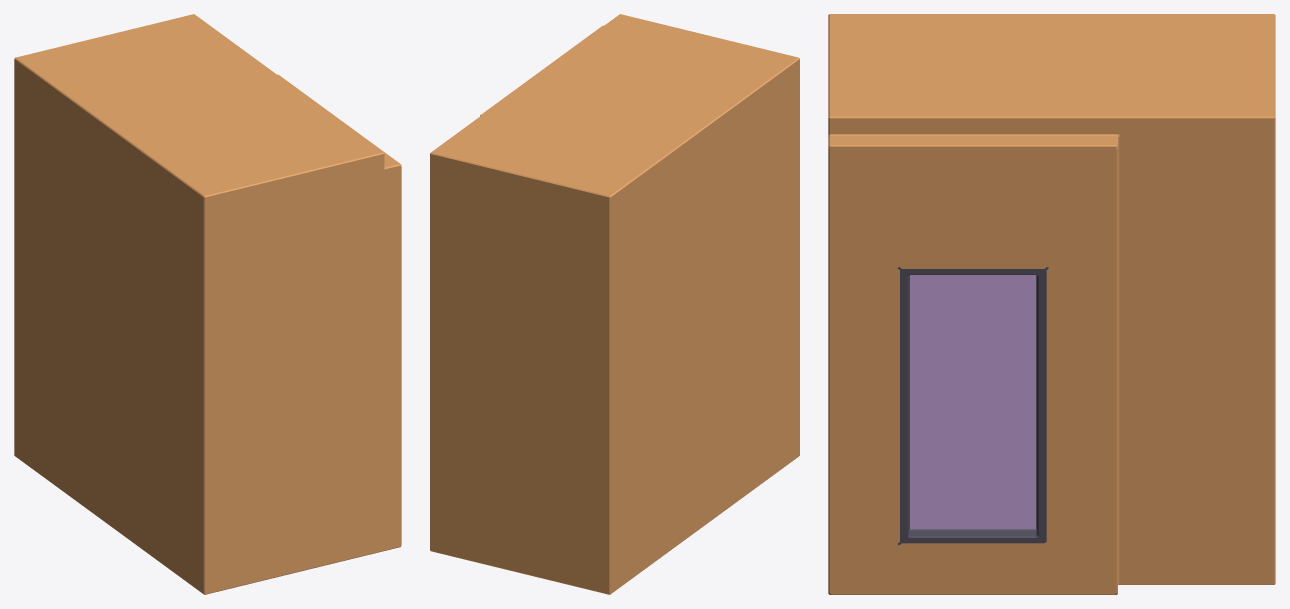
File: Building_Roof_deco_4.fbx
The picture shows the model from 3 angles, left to right: view 1: azimuth 30°, elevation 25°; view 2: azimuth 150°, elevation 25°; view 3: azimuth 270°, elevation 25°; orthographic projection. The views are drawn at different scales.
Visible parts, largest first — view 1: Building_Roof_deco_4; view 2: Building_Roof_deco_4; view 3: Building_Roof_deco_4.
Boxes of the visible parts, x1=… form: Building_Roof_deco_4: x1=14, y1=14, x2=401, y2=594; Building_Roof_deco_4: x1=430, y1=14, x2=799, y2=594; Building_Roof_deco_4: x1=828, y1=14, x2=1275, y2=594.
Size of the model in its own units: 175 by 337 by 291.
